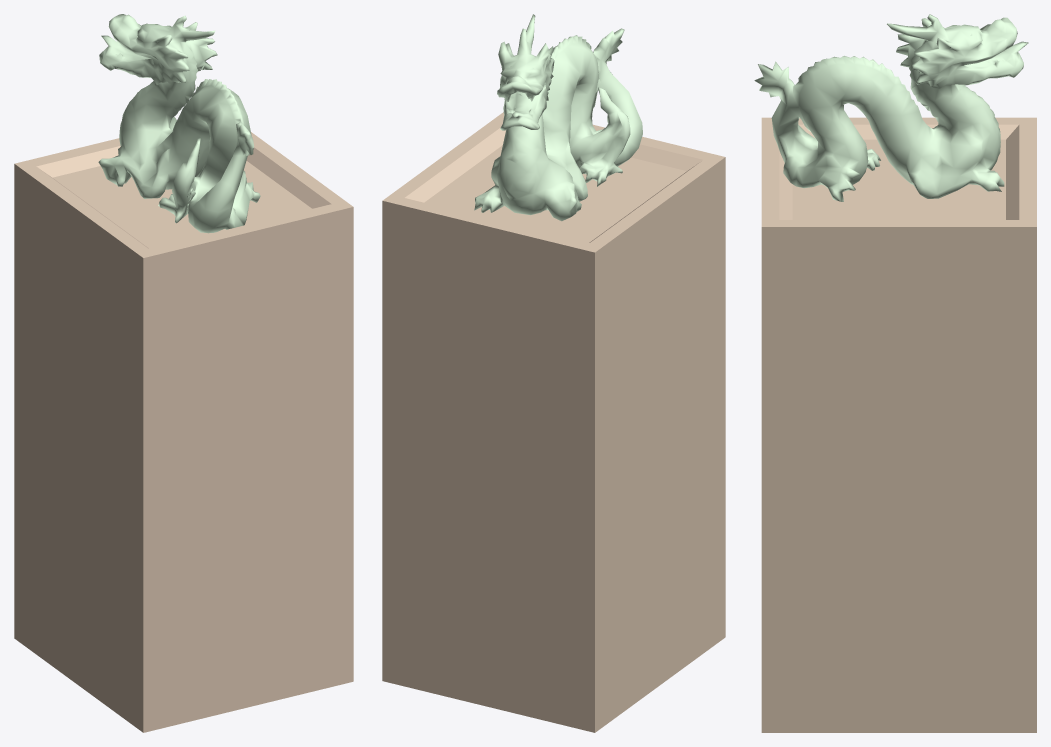
The model's file is dragon2.dae.
3 views of the same model, side by side, from view 1: azimuth 30°, elevation 25°; view 2: azimuth 150°, elevation 25°; view 3: azimuth 270°, elevation 25° (orthographic). The views are drawn at different scales.
Parts seen in each view (by area): view 1: Cube, root_001; view 2: Cube, root_001; view 3: Cube, root_001.
Part boxes in pixels (x1,y1,x2,y2): Cube: [14, 132, 353, 732]; root_001: [98, 14, 260, 233]; Cube: [382, 112, 725, 732]; root_001: [474, 14, 642, 221]; Cube: [761, 117, 1036, 732]; root_001: [754, 14, 1028, 201].
Size of the model in its own units: 0.9445 by 1.03 by 2.71.
